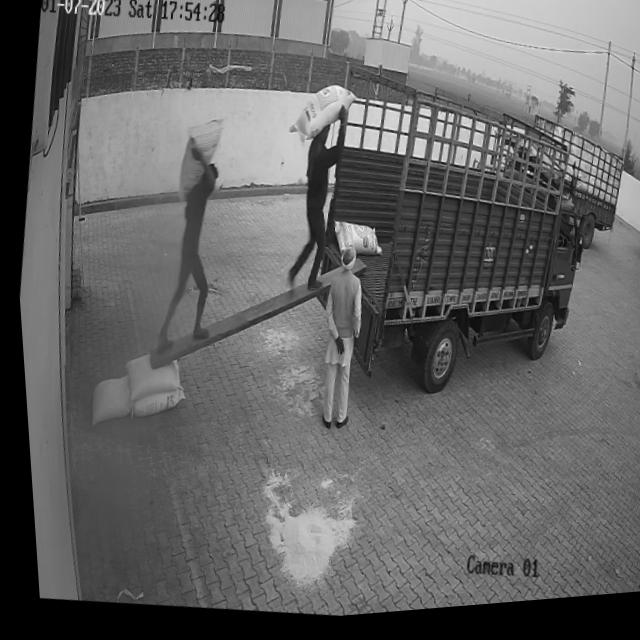sack: (282, 82, 358, 155), (169, 118, 225, 211), (116, 351, 178, 408), (82, 372, 130, 431), (326, 221, 382, 268), (124, 383, 180, 425)
